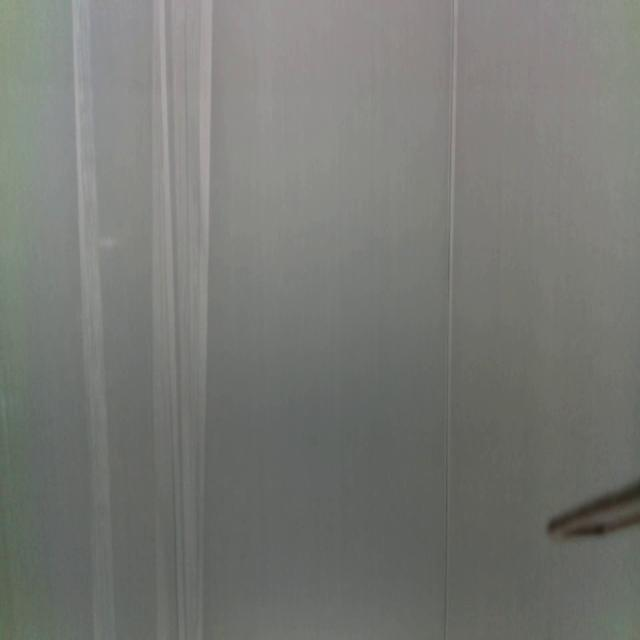crease: (151, 0, 214, 640), (72, 0, 116, 640), (441, 0, 460, 640)
